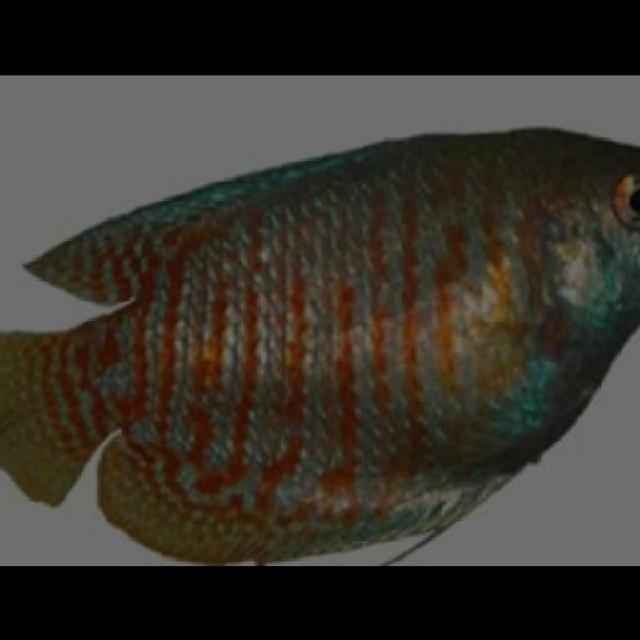Gourami: (1, 132, 638, 568)
